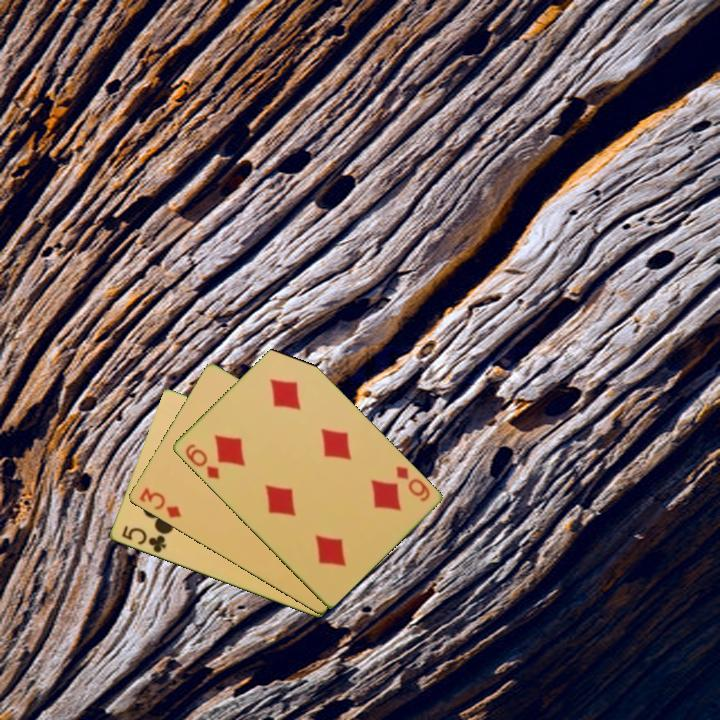3d: (135, 484, 184, 521)
5c: (118, 522, 169, 556)
6d: (181, 440, 222, 482), (392, 463, 433, 505)
